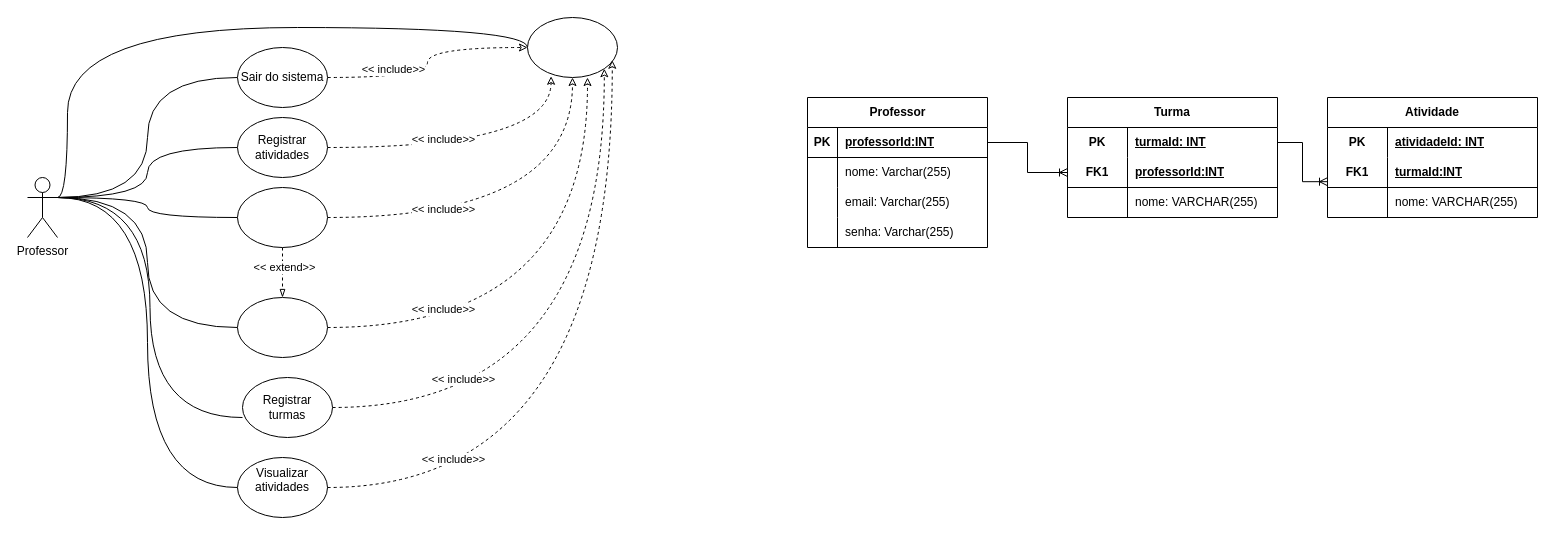
Image size: 1555x535. Some labels were removed from this diagram. The centre of each missing label's shape, as x and y in pixels:
"Autenticar se no sistema" goes at (572,47).
"Excluir turmas" goes at (282,217).
"Visualizar turmas" goes at (282,327).
